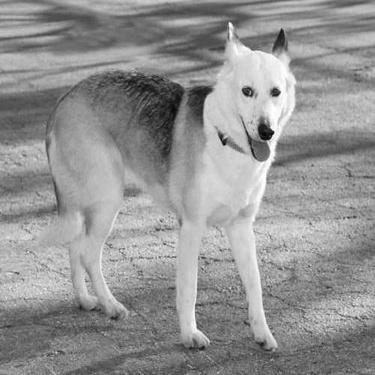dog: (37, 13, 297, 359)
